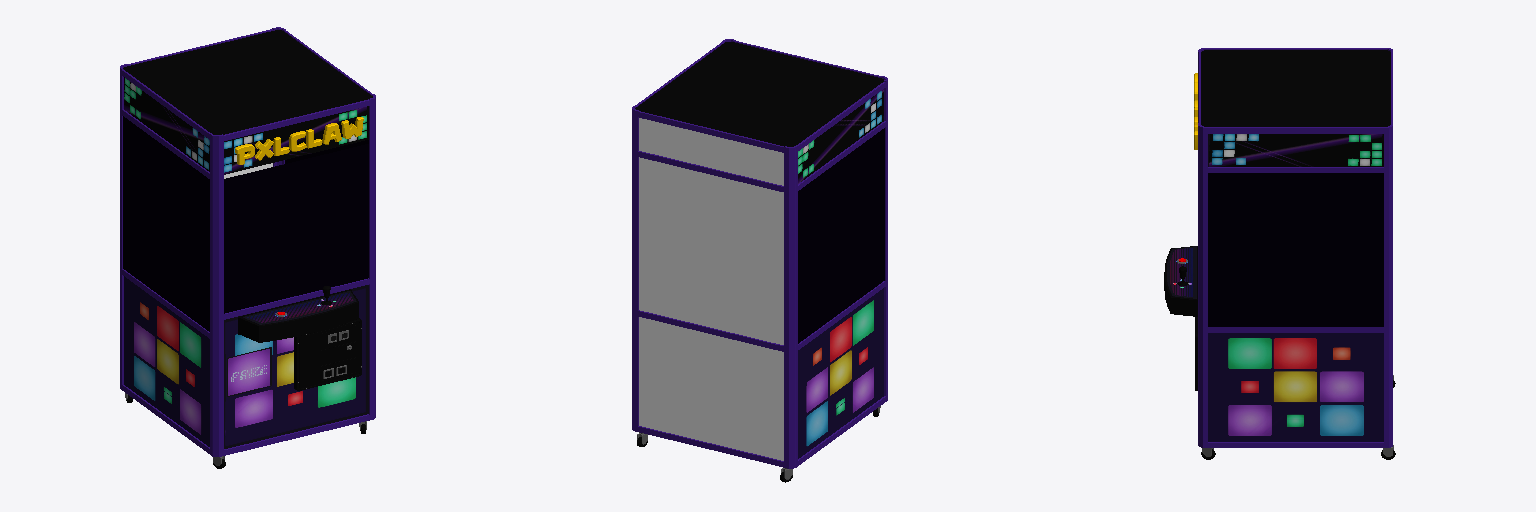
The picture shows the model from 3 angles: view 1: azimuth 30°, elevation 25°; view 2: azimuth 150°, elevation 25°; view 3: azimuth 270°, elevation 25°; orthographic projection.
Parts seen in each view (by area): view 1: Glass, Main, BlackPlastic1, Purple, Text; view 2: Mirror, BlackPlastic1, Purple, Glass, Main; view 3: Glass, Main, BlackPlastic1, Purple.
Boxes of the visible parts, x1=… form: Glass: x1=123, y1=116, x2=368, y2=331; Main: x1=124, y1=77, x2=368, y2=448; BlackPlastic1: x1=123, y1=30, x2=372, y2=468; Purple: x1=120, y1=27, x2=375, y2=456; Text: x1=235, y1=117, x2=363, y2=164; Mirror: x1=639, y1=118, x2=783, y2=460; BlackPlastic1: x1=635, y1=42, x2=883, y2=482; Purple: x1=632, y1=39, x2=887, y2=468; Glass: x1=798, y1=128, x2=884, y2=343; Main: x1=798, y1=89, x2=883, y2=458; Glass: x1=1208, y1=173, x2=1383, y2=326; Main: x1=1167, y1=134, x2=1383, y2=441; BlackPlastic1: x1=1164, y1=50, x2=1395, y2=459; Purple: x1=1198, y1=48, x2=1392, y2=447.
Bounding box in the file's own units: 2.53 × 4.97 × 3.1.
13 materials, 1 textured.